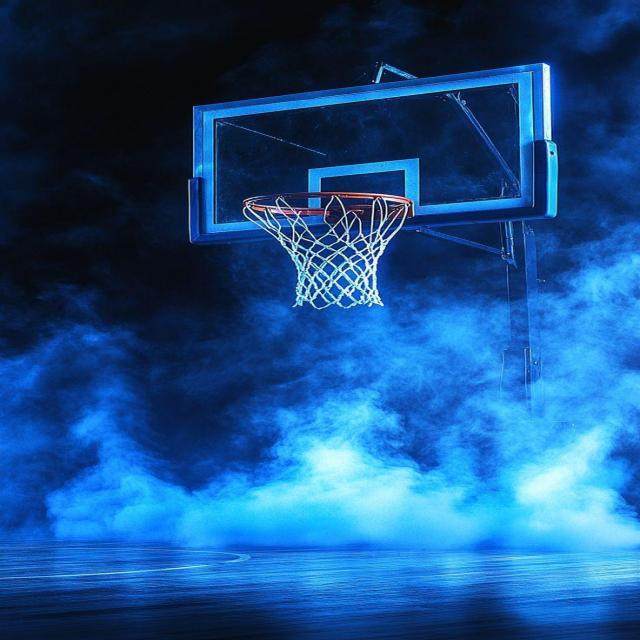hoop: (214, 168, 442, 310)
